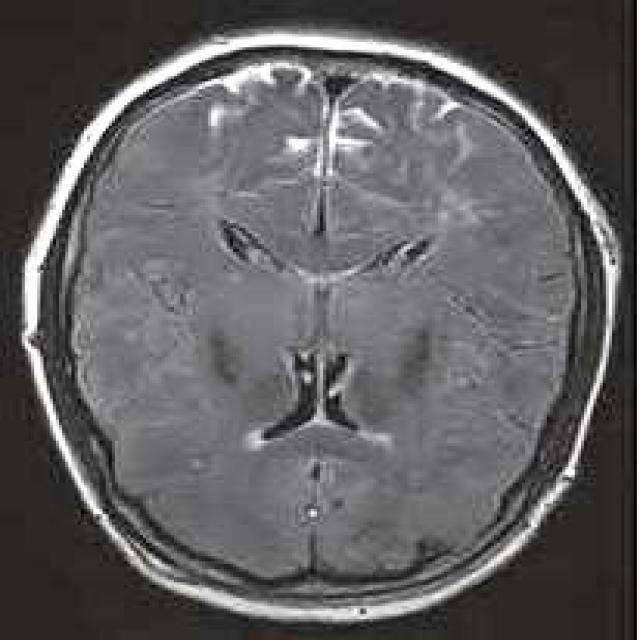notumor: (22, 29, 618, 619)
